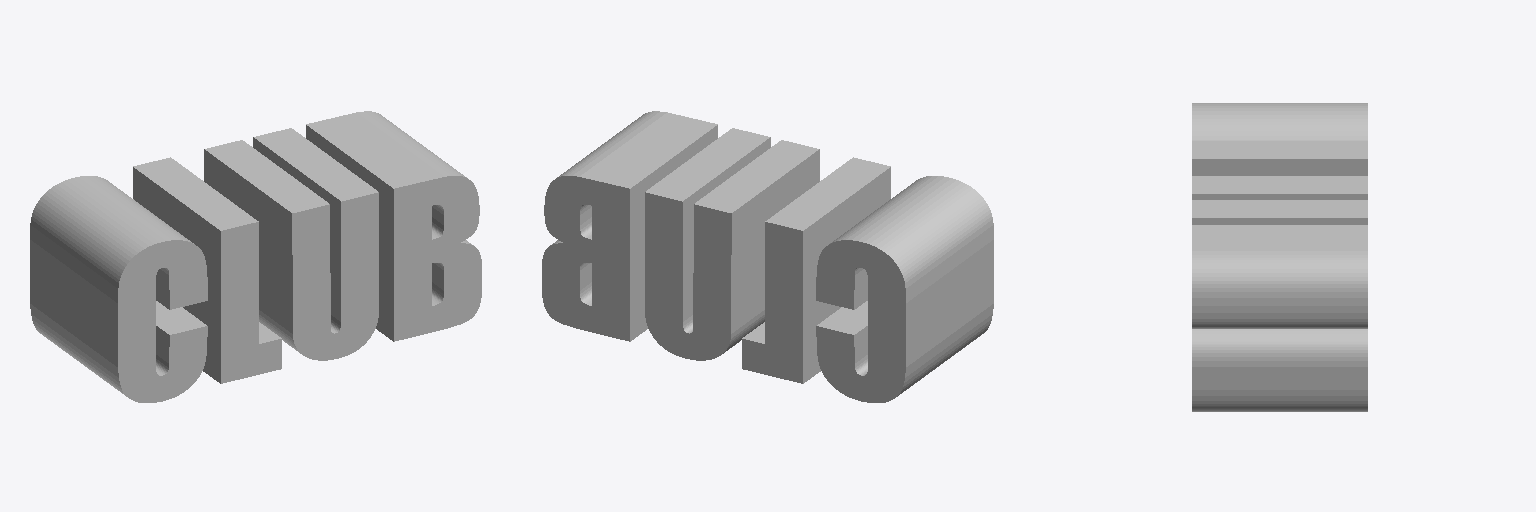
The model's file is club.obj.
The picture shows the model from 3 angles: view 1: azimuth 30°, elevation 25°; view 2: azimuth 150°, elevation 25°; view 3: azimuth 270°, elevation 25°; orthographic projection.
Parts seen in each view (by area): view 1: CLUB; view 2: CLUB; view 3: CLUB.
Part boxes in pixels (x1,y1,x2,y2): CLUB: (30,111,481,402); CLUB: (542,111,993,402); CLUB: (1192,103,1367,411).
Bounding box in the file's own units: 10.03 × 4.19 × 4.19.